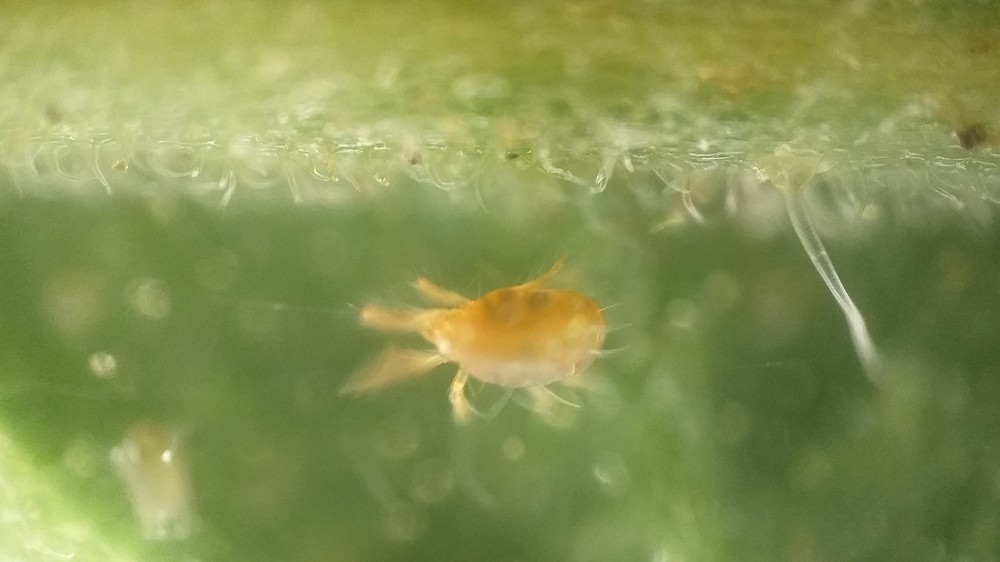Aracnido Rojo: (338, 244, 646, 448)
